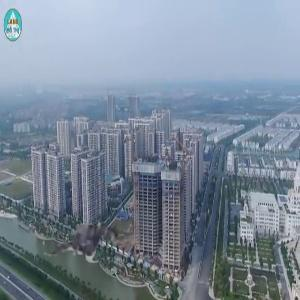drone: (41, 187, 139, 285)
